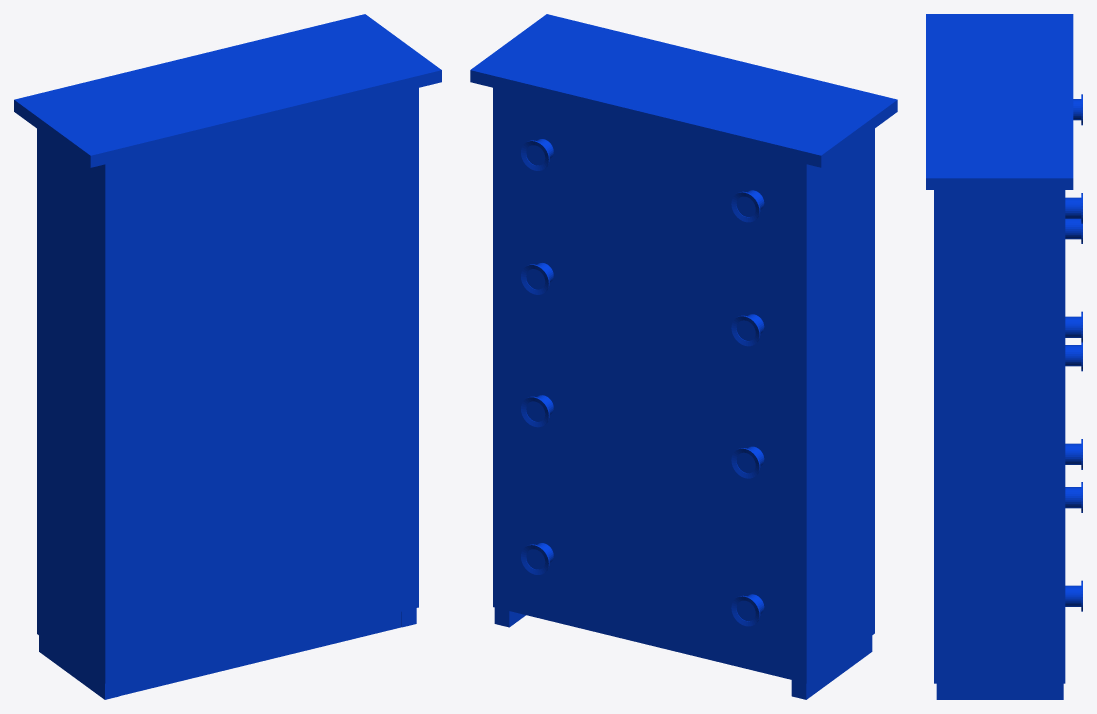
Rendered from Adult_Chest_Of_Drawers.fbx.
3 renders of one model, left to right at view 1: azimuth 30°, elevation 25°; view 2: azimuth 150°, elevation 25°; view 3: azimuth 270°, elevation 25°, orthographic. The views are drawn at different scales.
Parts seen in each view (by area): view 1: Cube; view 2: Cube; view 3: Cube.
Boxes of the visible parts, x1,y1,x2,y2 form: Cube: (14,14,441,699); Cube: (470,14,897,699); Cube: (926,14,1082,699).
Bounding box in the file's own units: 518 × 780 × 209.
